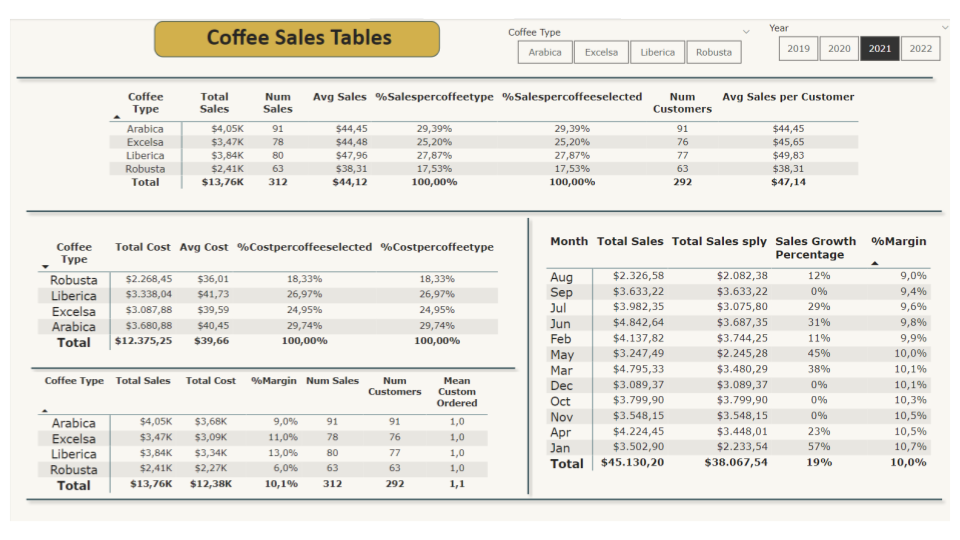

What the dashboard file says about the page in this screenshot:
{"tool":"powerbi","page":{"name":"Sales detail","canvas":[1280,720],"ordinal":3},"visuals":[{"type":"pivotTable","fields":{"Values":["Medidas.Total Sales","Medidas.Num Sales","Medidas.Avg Sales","Medidas.%Salespercoffeetype","Medidas.%Salespercoffeeselected","Medidas.Num Customers","Medidas.Avg Sales per Customer"],"Rows":["products.Coffee Type"]},"box":[129.6,91.9,1034,167.3],"z":0},{"type":"pivotTable","fields":{"Values":["Medidas.Total Cost","Medidas.Avg Cost","Medidas.%Costpercoffeeselected","Medidas.%Costpercoffeetype"],"Rows":["products.Coffee Type"]},"box":[32.9,294.3,651.4,165.7],"z":1000},{"type":"shape","box":[195.1,3.3,385.6,48.9],"z":2000},{"type":"textbox","box":[231.8,0,317.8,60],"z":3000},{"type":"pivotTable","fields":{"Values":["Medidas.Total Sales","Medidas.Total Cost","Medidas.%Margin","Medidas.Num Sales","Medidas.Num Customers","Medidas.Mean Custom Ordered"],"Rows":["products.Coffee Type"]},"box":[32.9,475.7,628.6,184.3],"z":4000},{"type":"pivotTable","fields":{"Rows":["tbl_Dates.Month"],"Values":["Medidas.Total Sales","Medidas.Total Sales sply","Medidas.Sales_Growth_Percentage","Medidas.%Margin"]},"box":[719.5,284.6,548,350.4],"z":5000},{"type":"shape","box":[13.3,250.9,1253.8,16.8],"z":6000},{"type":"shape","box":[19.5,462.9,671.2,14.2],"z":7000},{"type":"shape","box":[690.7,259.8,15.1,391],"z":8000},{"type":"shape","box":[12.9,624.3,1254.3,50],"z":9000},{"type":"shape","box":[0,68.3,1254.7,23.9],"z":10000},{"type":"slicer","fields":{"Values":["tbl_Dates.Year"]},"box":[1012,0,268,64],"z":12000},{"type":"slicer","fields":{"Values":["products.Coffee Type"]},"box":[659.3,5.8,352,62],"z":12001}]}

Visuals, with their boxes in screenshot pixels (x1, y1, x2, y2), scaled from the page's 1280x720 canvas onto the 960x540 screenshot:
pivotTable - Medidas.Total Sales x Medidas.Num Sales: box=[97, 69, 873, 194]
pivotTable - Medidas.Total Cost x Medidas.Avg Cost: box=[25, 221, 513, 345]
shape: box=[146, 2, 436, 39]
textbox: box=[174, 0, 412, 45]
pivotTable - Medidas.Total Sales x Medidas.Total Cost: box=[25, 357, 496, 495]
pivotTable - tbl_Dates.Month x Medidas.Total Sales: box=[540, 213, 951, 476]
shape: box=[10, 188, 950, 201]
shape: box=[15, 347, 518, 358]
shape: box=[518, 195, 529, 488]
shape: box=[10, 468, 950, 506]
shape: box=[0, 51, 941, 69]
slicer - tbl_Dates.Year: box=[759, 0, 959, 48]
slicer - products.Coffee Type: box=[494, 4, 758, 51]
